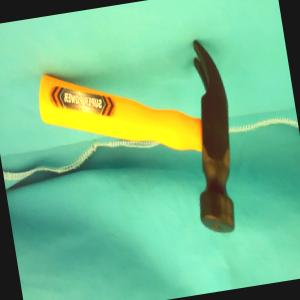martelo: (30, 34, 248, 259)
